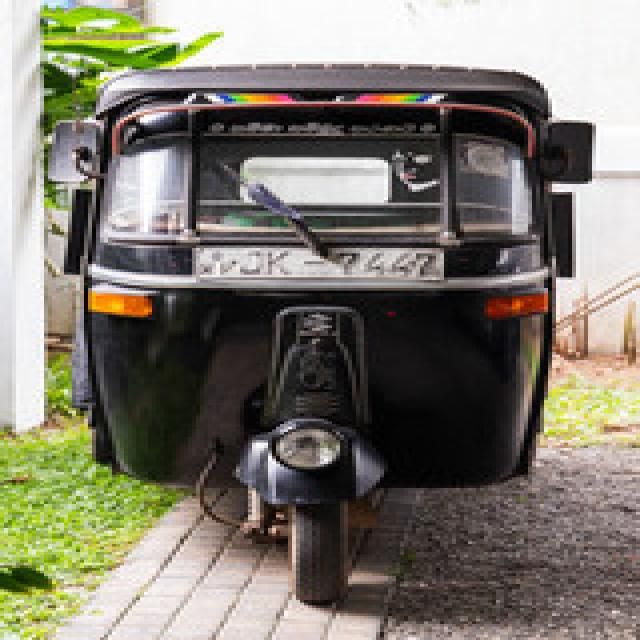three wheeler: (48, 64, 588, 603)
